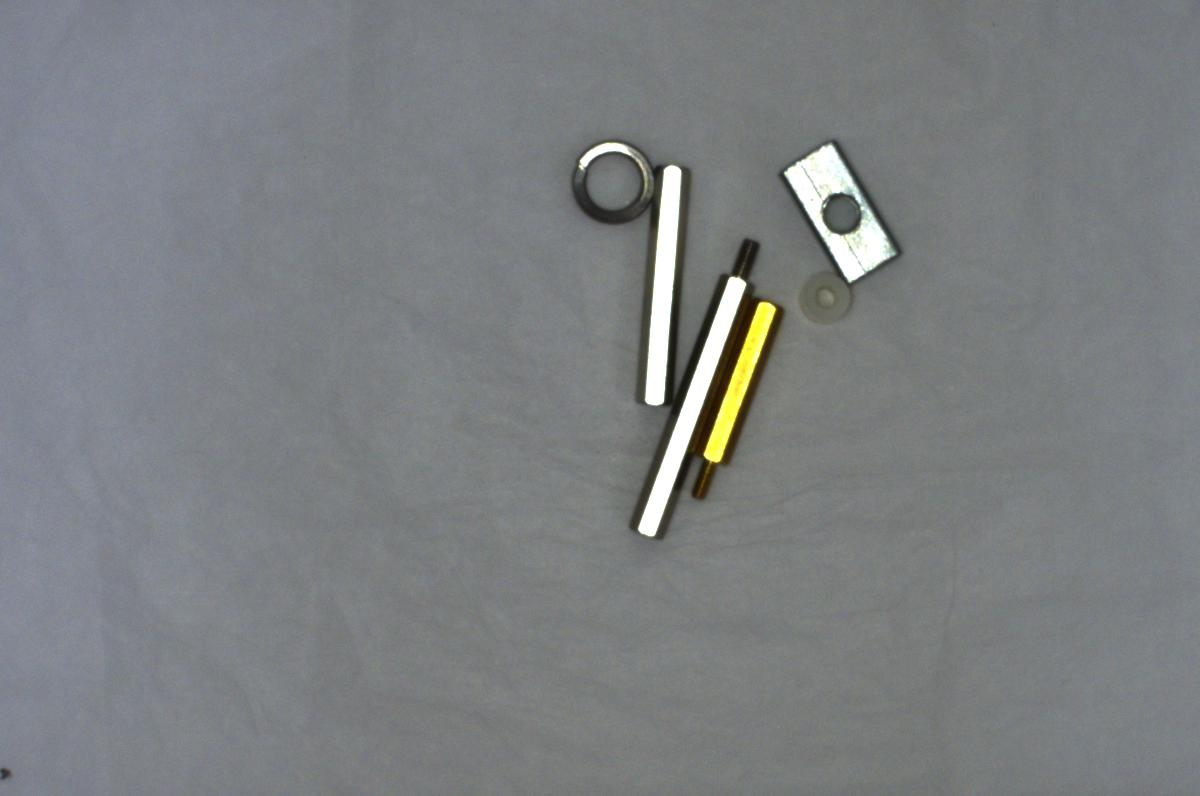Double hexagonal column: (630, 162, 691, 417)
Hexagon pillar: (680, 289, 780, 498)
Hexagonal steel column: (629, 228, 762, 542)
Plastic cushion pillar: (792, 267, 856, 324)
Rectangular nut: (779, 141, 898, 281)
Spring washer: (561, 126, 655, 228)
